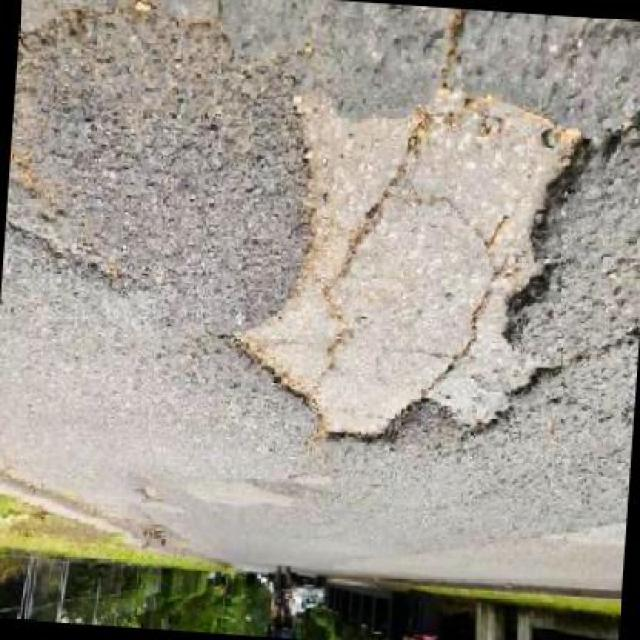pothole: (219, 78, 606, 468)
